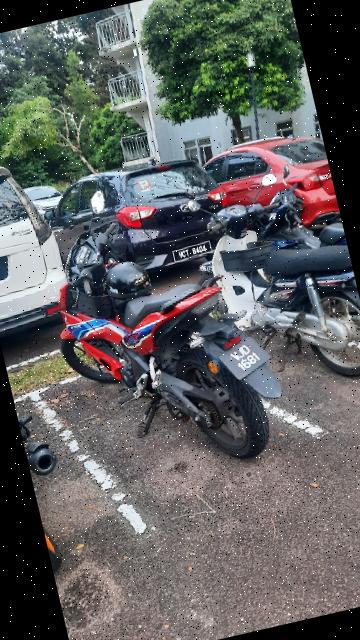License_Plate: (216, 328, 278, 385), (174, 235, 217, 263)
car: (56, 144, 234, 291), (203, 130, 343, 252), (1, 156, 81, 342)
motorcycle: (30, 163, 296, 500), (165, 151, 360, 415)
